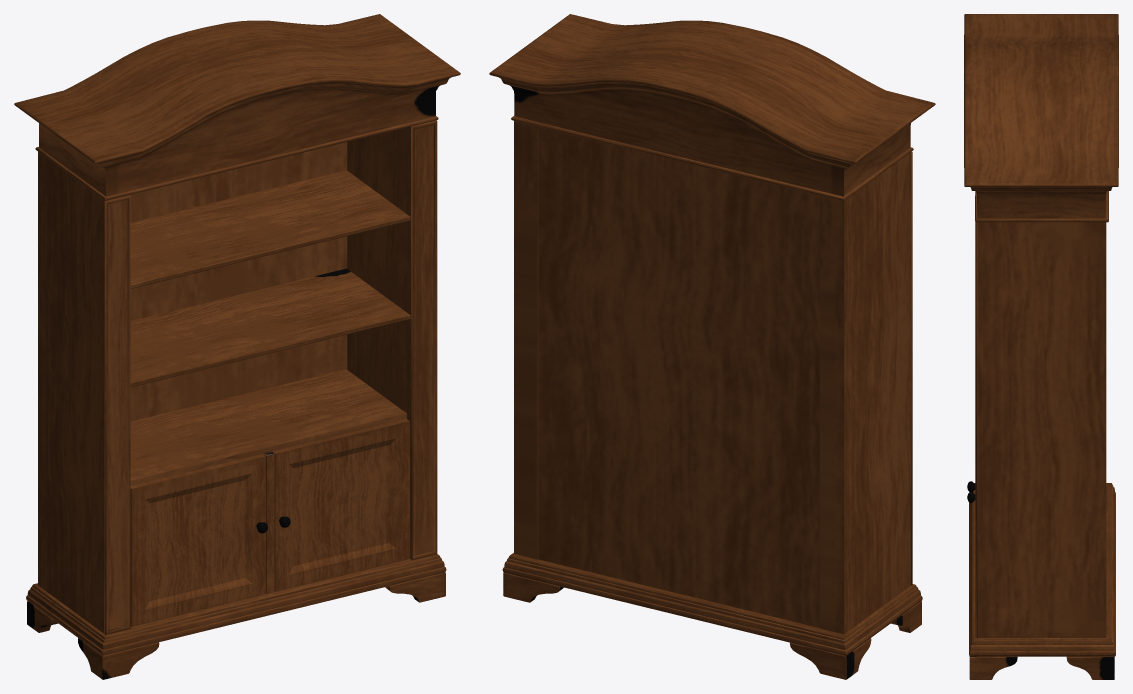
Rendered from Furniture.fbx.
3 views of the same model, side by side, from view 1: azimuth 30°, elevation 25°; view 2: azimuth 150°, elevation 25°; view 3: azimuth 270°, elevation 25° (orthographic). The views are drawn at different scales.
Parts seen in each view (by area): view 1: BookShelf, LeftDoor_BookShelf, RightDoor_BookShelf; view 2: BookShelf; view 3: BookShelf.
Boxes of the visible parts, bbox=[...] form: BookShelf: bbox=[14, 14, 460, 679]; LeftDoor_BookShelf: bbox=[130, 454, 267, 626]; RightDoor_BookShelf: bbox=[272, 418, 409, 591]; BookShelf: bbox=[489, 14, 935, 679]; BookShelf: bbox=[964, 14, 1118, 679].
Size of the model in its own units: 230 by 332 by 88.08.
1 material, 1 textured.
